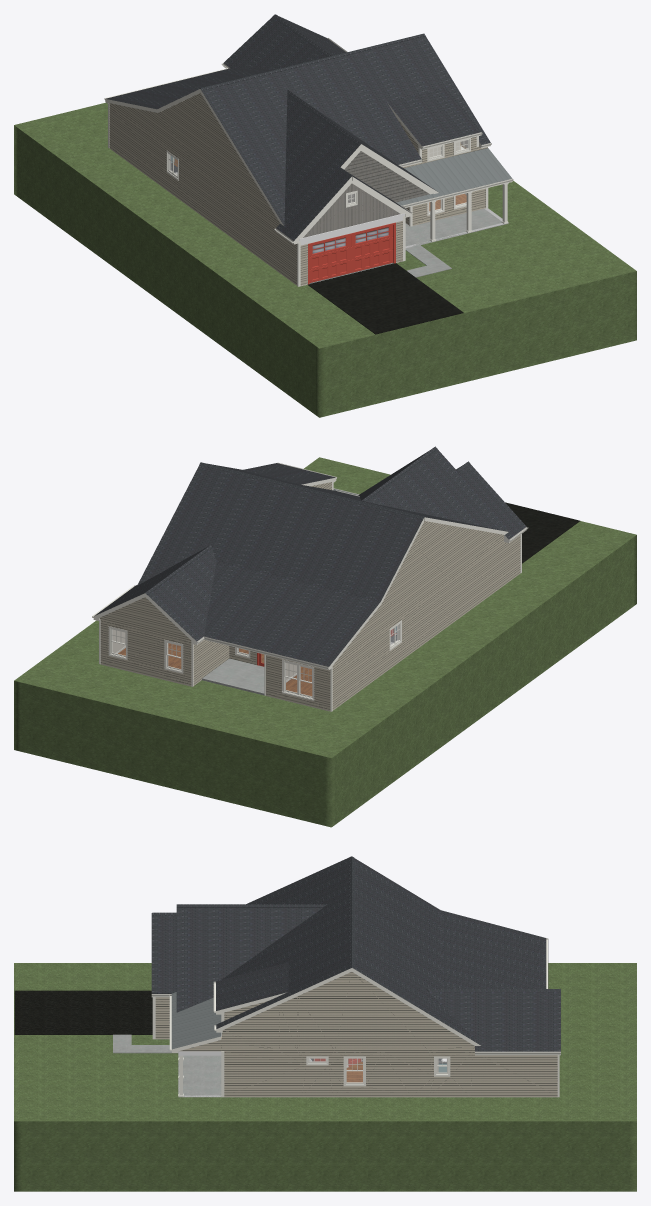
Rendered from house.dae.
The picture shows the model from 3 angles, top to bottom: view 1: azimuth 30°, elevation 25°; view 2: azimuth 150°, elevation 25°; view 3: azimuth 270°, elevation 25°; orthographic projection. The views are drawn at different scales.
Parts seen in each view (by area): view 1: geo_163, geo_131, geo_143, geo_11, geo_171, geo_169, geo_113, geo_135, geo_138, geo_147, geo_61, geo_77 (+1 smaller); view 2: geo_163, geo_131, geo_143, geo_11, geo_171, geo_147, geo_127, geo_71; view 3: geo_163, geo_131, geo_143, geo_171, geo_11, geo_147, geo_113, geo_127, geo_145.
Part boxes in pixels (x1,y1,x2,y2): geo_163: (14,102,636,417); geo_131: (105,14,490,240); geo_143: (108,93,487,285); geo_11: (104,38,513,286); geo_171: (307,263,463,334); geo_169: (308,222,395,284); geo_113: (396,148,512,205); geo_135: (303,183,400,237); geo_138: (344,151,429,203); geo_147: (309,220,508,283); geo_61: (405,208,501,246); geo_77: (299,213,404,245); geo_163: (14,457,636,827); geo_131: (94,446,526,666); geo_143: (99,482,520,710); geo_11: (92,462,528,711); geo_171: (505,502,579,563); geo_147: (202,658,264,695); geo_127: (112,624,399,695); geo_71: (118,643,312,696); geo_163: (14,963,636,1191); geo_131: (151,856,560,1051); geo_143: (155,972,557,1096); geo_171: (14,990,152,1034); geo_11: (151,938,560,1097); geo_147: (113,1034,221,1097); geo_113: (171,992,221,1049); geo_127: (309,1059,446,1081); geo_145: (156,1039,557,1097).
Size of the model in its own units: 720 by 1199 by 427.
Materials: 47 (24 with a texture image).
